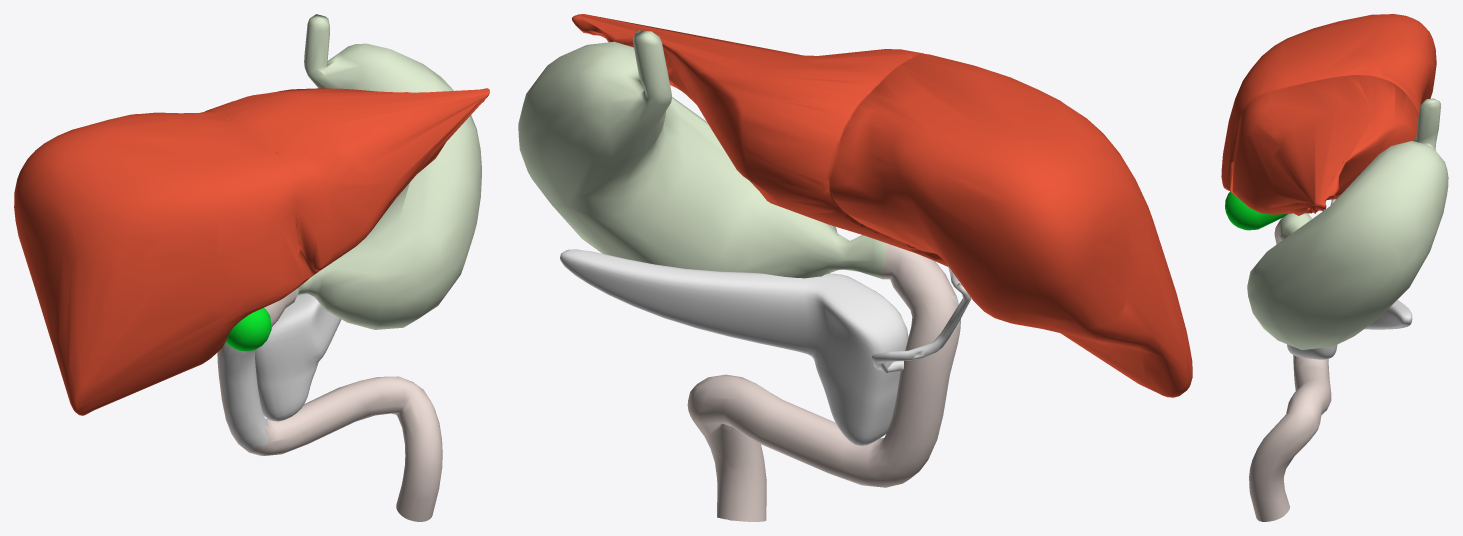
The model's file is liverpankreas.fbx.
3 renders of one model, left to right at view 1: azimuth 30°, elevation 25°; view 2: azimuth 150°, elevation 25°; view 3: azimuth 270°, elevation 25°, orthographic. The views are drawn at different scales.
Visible parts, largest first — view 1: karaciğer.001, SEROZA.000, pankreas; view 2: karaciğer.001, SEROZA.000, pankreas; view 3: SEROZA.000, karaciğer.001, pankreas.
Boxes of the visible parts, x1,y1,x2,y2 form: karaciğer.001: (14,88,489,415); SEROZA.000: (217,14,481,521); pankreas: (255,293,341,421); karaciğer.001: (572,14,1192,397); SEROZA.000: (518,30,960,521); pankreas: (560,249,908,445); SEROZA.000: (1247,98,1448,521); karaciğer.001: (1221,14,1436,230); pankreas: (1287,300,1412,359).
Bounding box in the file's own units: 2761 × 2574 × 1286.
